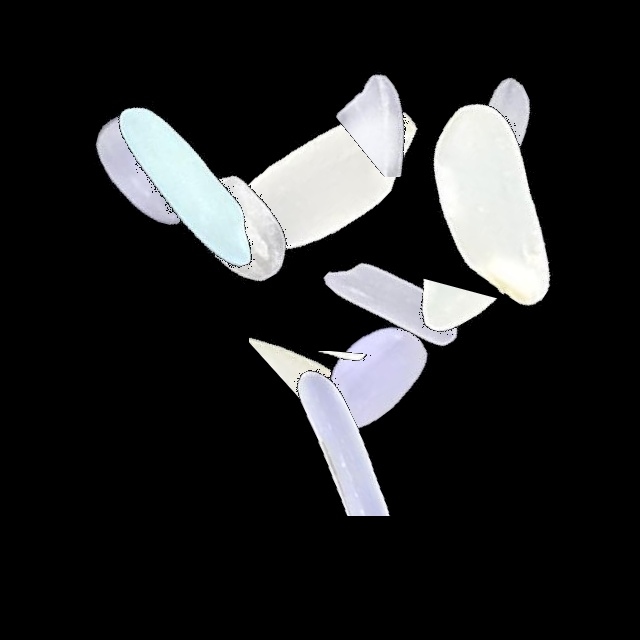Broken: (267, 365, 517, 516), (293, 39, 543, 177), (249, 197, 351, 447), (127, 87, 224, 337), (418, 211, 509, 461), (202, 351, 452, 433), (552, 316, 629, 566)
Full: (202, 53, 452, 303), (105, 99, 355, 349), (368, 14, 618, 264), (19, 41, 269, 291), (373, 77, 623, 327), (249, 248, 499, 498), (60, 60, 310, 310), (267, 178, 517, 428)
